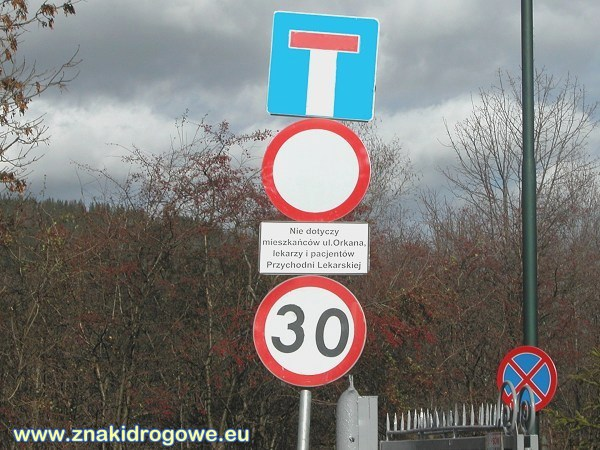no_entry_sign: (261, 118, 373, 223)
